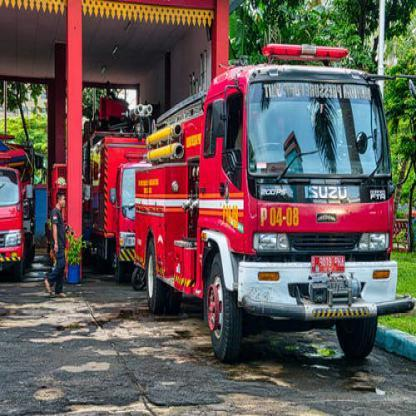fire-truck: (80, 19, 413, 400)
